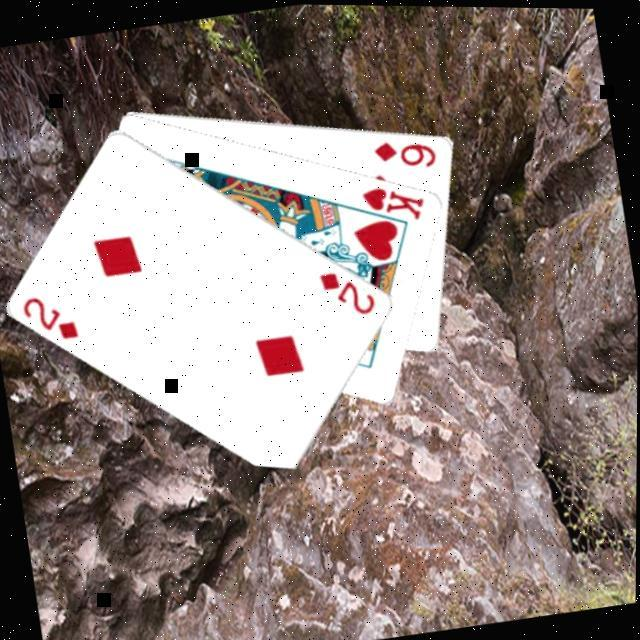2D: (15, 284, 82, 348), (313, 259, 379, 322)
6D: (368, 127, 440, 176)
KH: (355, 173, 428, 228)
